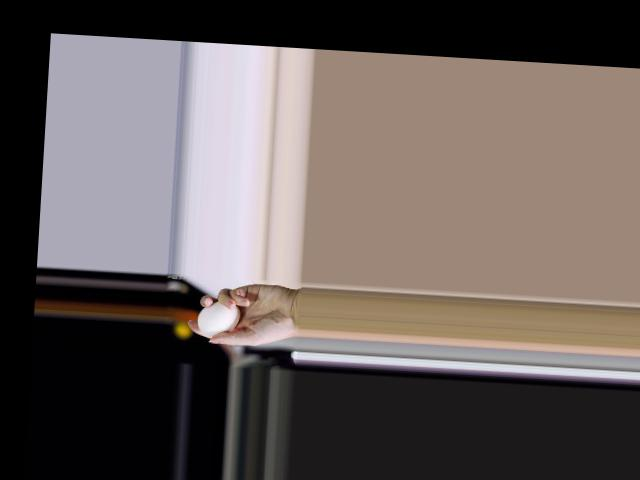egg: (195, 300, 240, 337)
